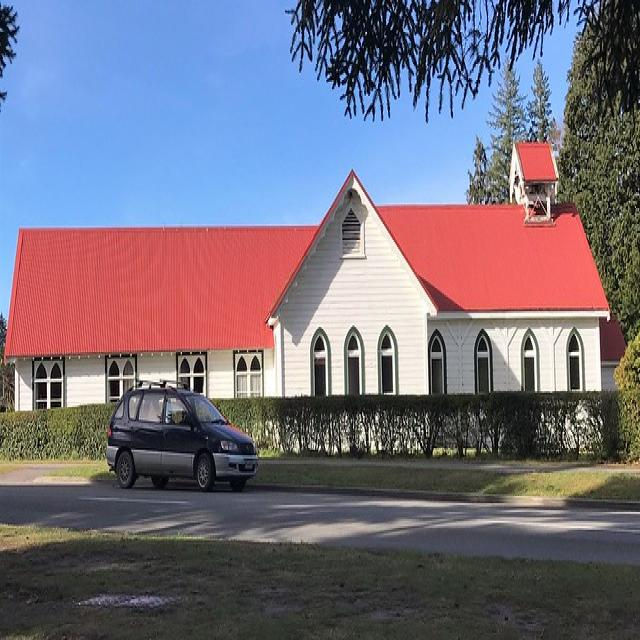Normal_building: (1, 134, 630, 472)
